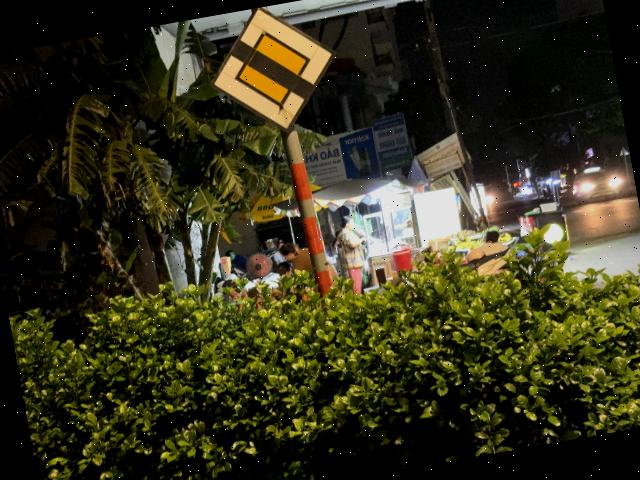het-duong-uu-tien: (197, 0, 349, 146)
